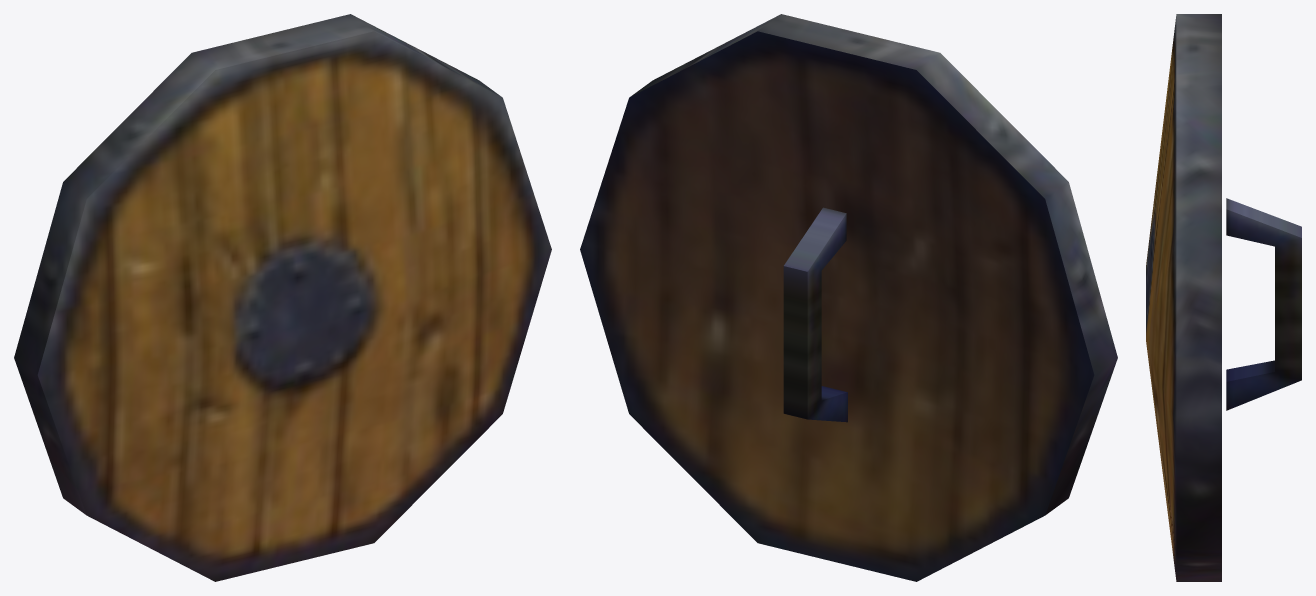
File: commonShield.glb
The picture shows the model from 3 angles, left to right: view 1: azimuth 30°, elevation 25°; view 2: azimuth 150°, elevation 25°; view 3: azimuth 270°, elevation 25°; orthographic projection. The views are drawn at different scales.
Parts seen in each view (by area): view 1: commonShield; view 2: commonShield; view 3: commonShield.
Boxes of the visible parts, x1,y1,x2,y2 form: commonShield: (14,14,551,581); commonShield: (580,14,1117,581); commonShield: (1146,14,1301,581).
Bounding box in the file's own units: 0.94 × 0.894 × 0.2562.
1 material, 1 textured.
